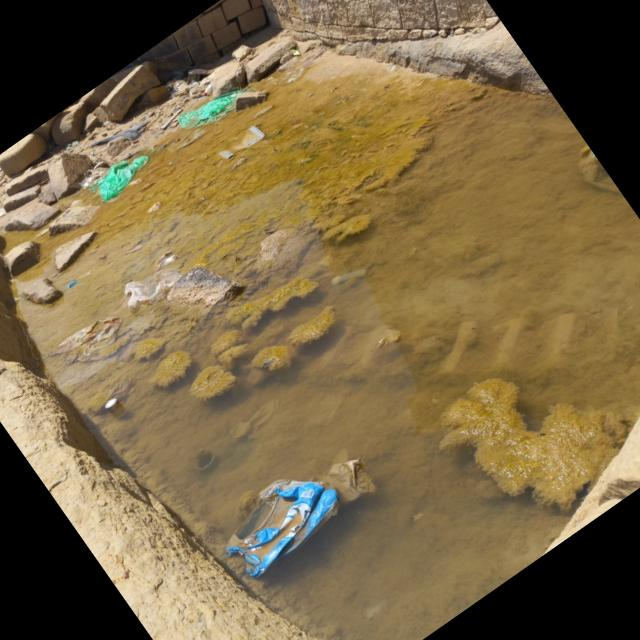Bottle: (203, 80, 213, 94)
Can: (105, 397, 127, 418), (196, 449, 215, 470)
Other litter: (50, 254, 180, 359), (220, 124, 266, 159), (90, 120, 150, 145), (65, 138, 80, 150), (66, 280, 79, 289), (167, 84, 175, 95)
Other plastic: (223, 457, 381, 584)
Plastic bag - wrapper: (177, 87, 250, 129), (88, 155, 148, 202)
